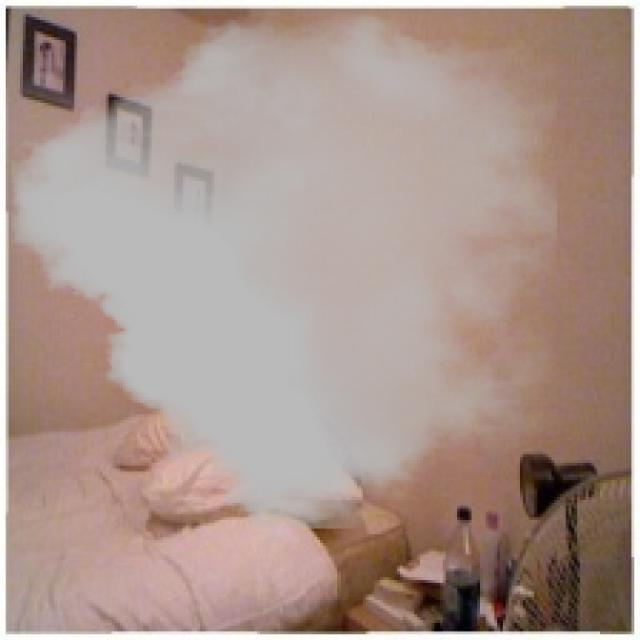smoke: (12, 11, 557, 528)
